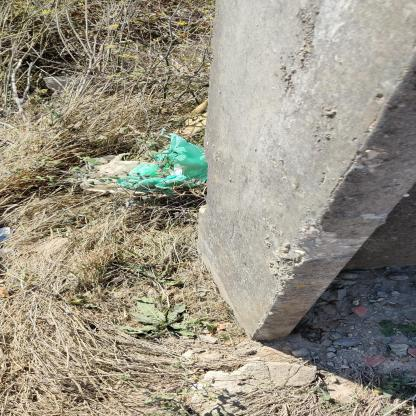plastik: (116, 134, 210, 192), (80, 154, 162, 194)
